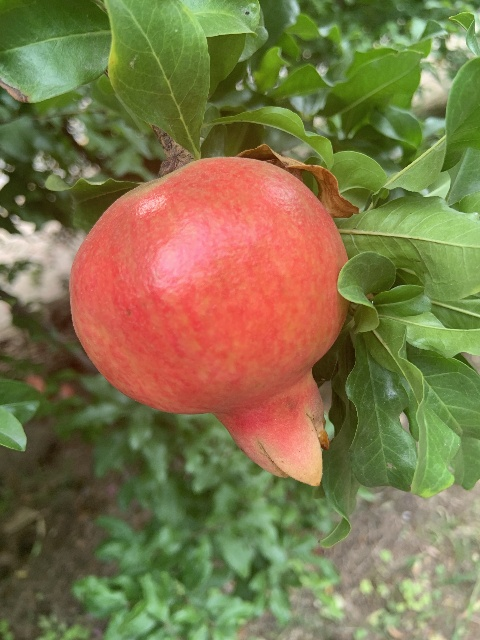ripe: (68, 156, 350, 486)
